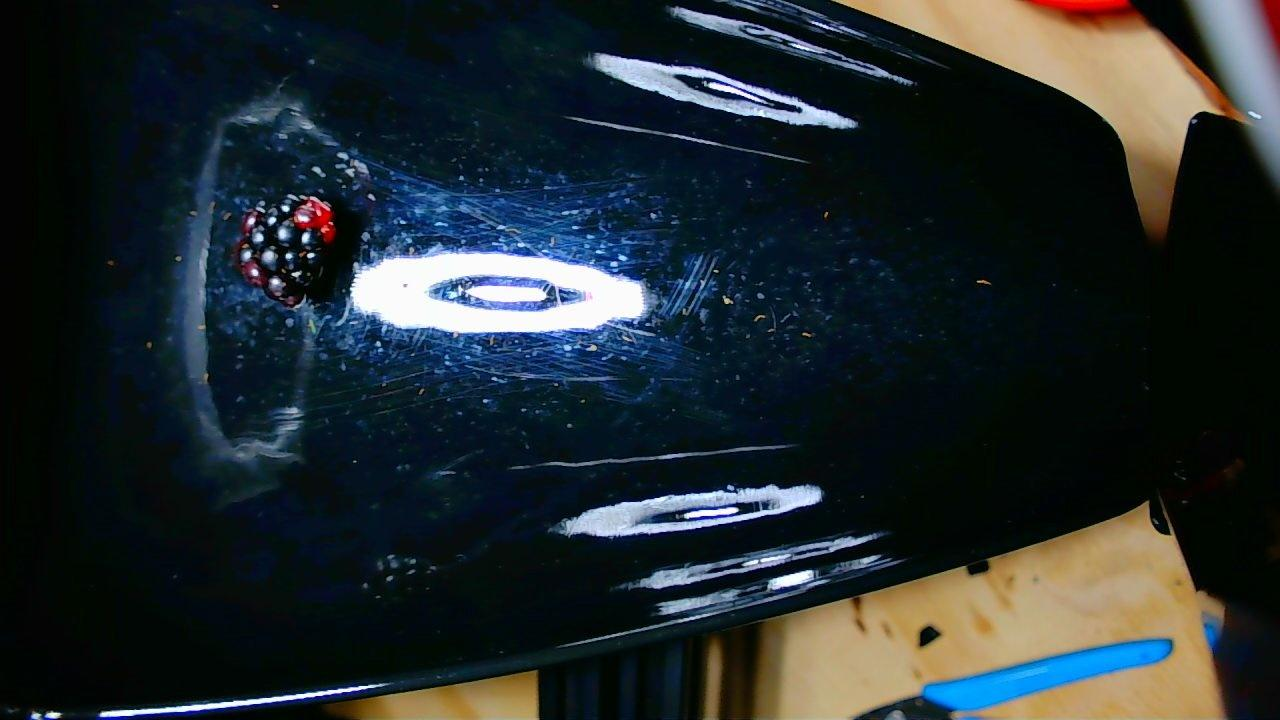berry: (235, 195, 335, 306)
